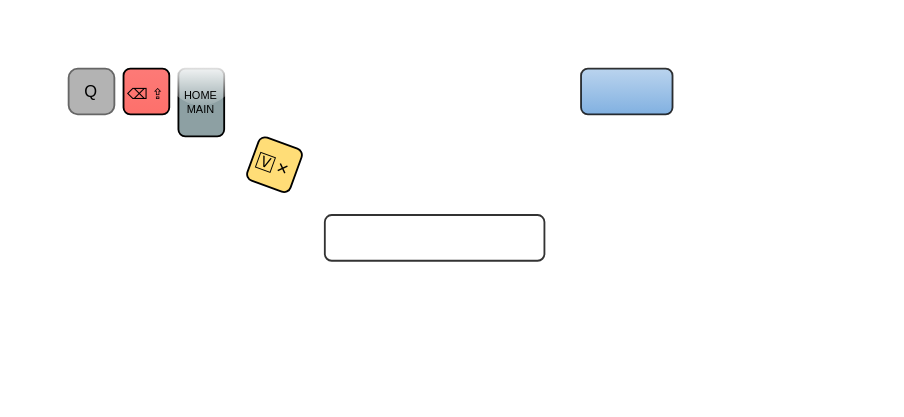
Image size: 904x417. Some labels were removed from this diagram. The box of each missing label's shape, as (x1, y1, x2, y2) in pixels:
0. CMKDH: (323, 213, 544, 261)
𝓕𝔽 ↶ ↹: (579, 67, 673, 114)
